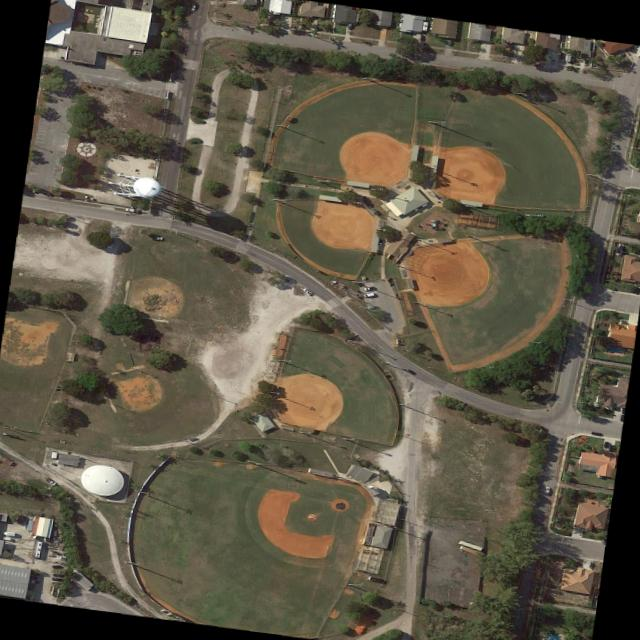large-vehicle: (300, 286, 312, 295), (43, 475, 55, 484), (361, 291, 375, 297), (0, 529, 14, 535), (123, 206, 133, 211)
small-vehicle: (366, 574, 383, 583), (361, 284, 374, 290), (0, 534, 13, 540), (542, 484, 549, 494), (405, 367, 415, 374), (148, 234, 162, 239), (52, 571, 63, 577), (50, 575, 63, 580), (589, 430, 601, 435), (49, 563, 62, 567), (189, 1, 195, 9), (376, 238, 382, 245), (367, 304, 376, 308), (345, 21, 350, 28), (587, 560, 592, 567), (558, 51, 563, 58), (418, 33, 423, 40)
storage-tank: (77, 461, 124, 497)
